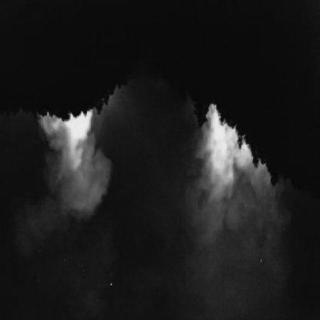Fire: (197, 99, 260, 245), (47, 112, 93, 209)
